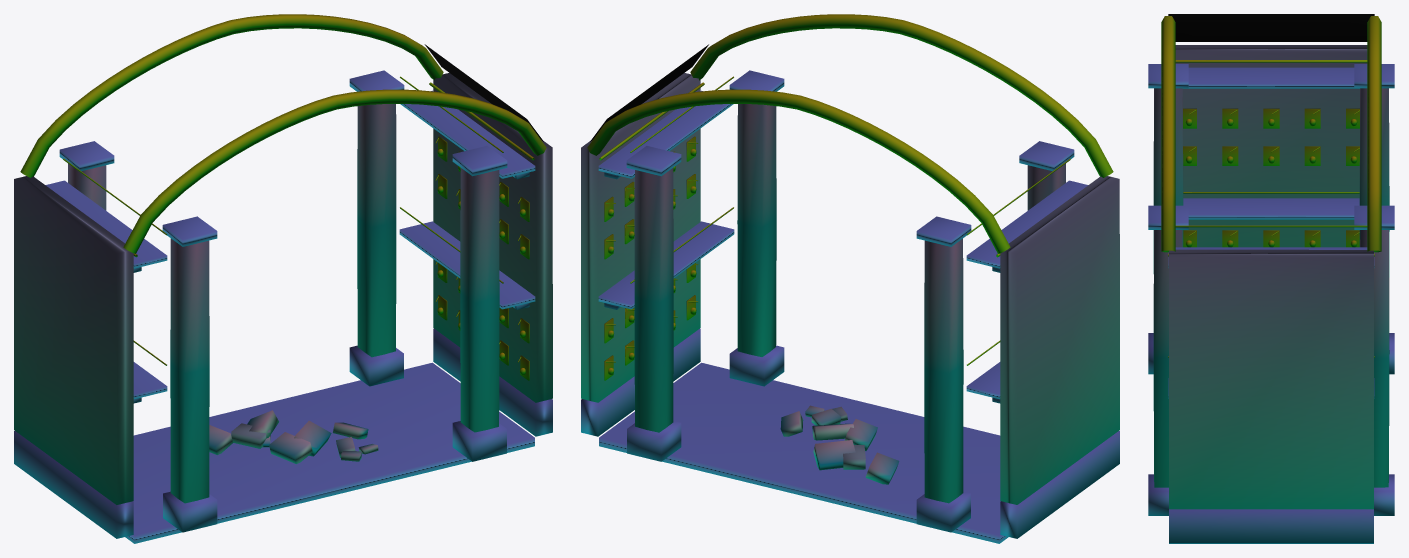
File: lowlight_nave_bay_broken.glb
3 renders of one model, left to right at view 1: azimuth 30°, elevation 25°; view 2: azimuth 150°, elevation 25°; view 3: azimuth 270°, elevation 25°, orthographic.
Visible parts, largest first — view 1: lowlight_nave_bay_broken; view 2: lowlight_nave_bay_broken; view 3: lowlight_nave_bay_broken.
Part boxes in pixels (bbox=[...]): lowlight_nave_bay_broken: bbox=[14, 14, 552, 543]; lowlight_nave_bay_broken: bbox=[581, 14, 1119, 543]; lowlight_nave_bay_broken: bbox=[1148, 14, 1394, 543].
Size of what is drawn, in the model's own units: 19.57 by 17.13 by 9.56.
